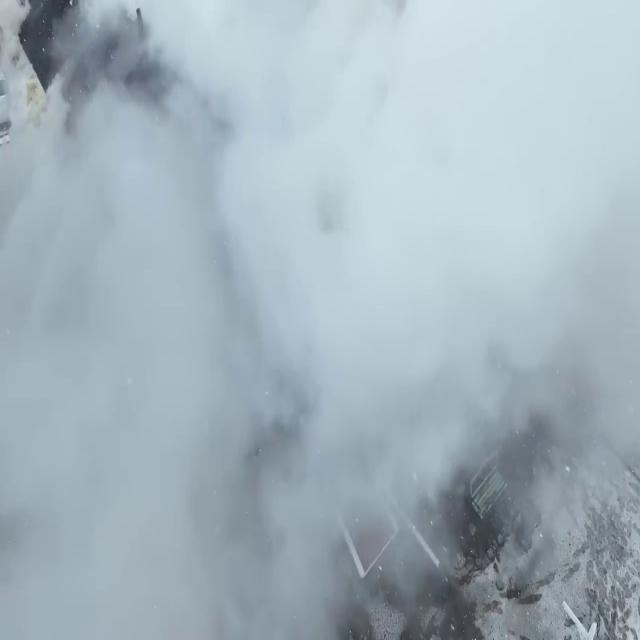Smoke: (1, 0, 634, 639)
